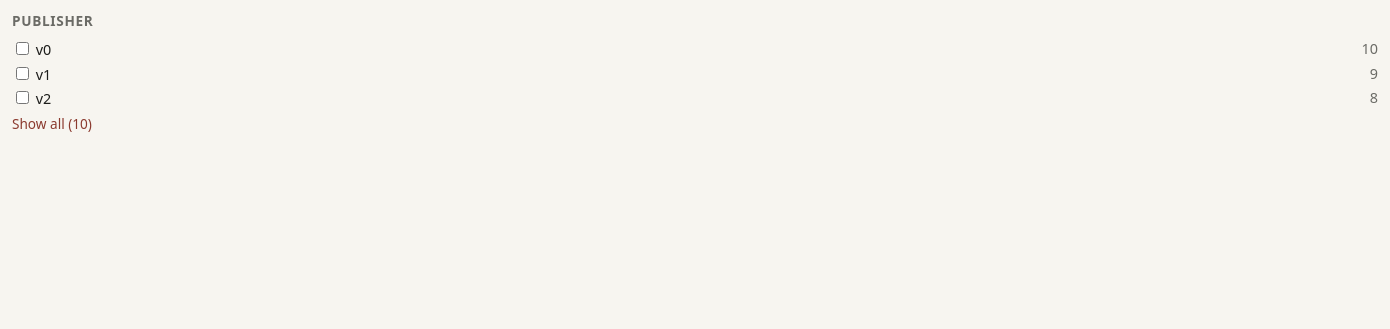
it: FacetGroup › renders the first N options with counts and toggles the rest
Expected: the number of checkboxes is 3, top-left (16, 42), bottom-right (29, 55); top-left (16, 67), bottom-right (29, 80); top-left (16, 91), bottom-right (29, 104)
Expected: the text "10" is shown, top-left (1362, 39), bottom-right (1378, 59)
Click the button "Show all (10)" at (52, 123), box top-left (12, 111), bottom-right (92, 136)
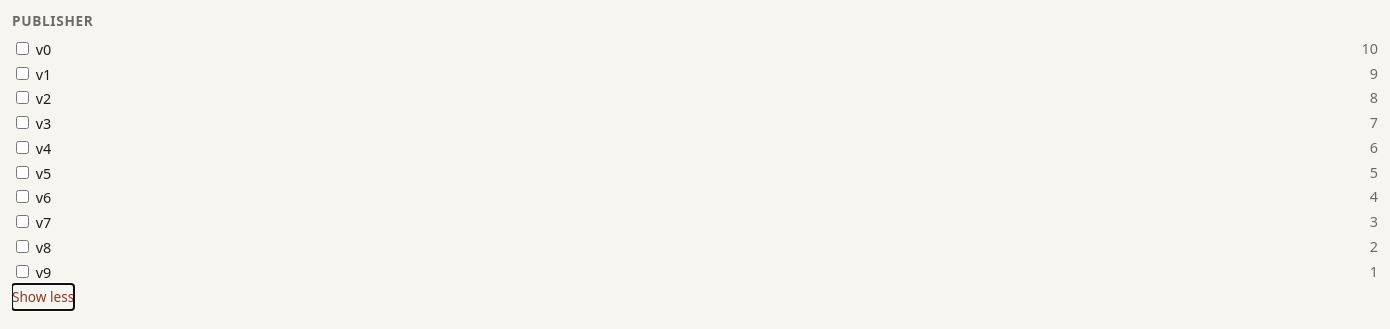
Result: the number of checkboxes is 10
